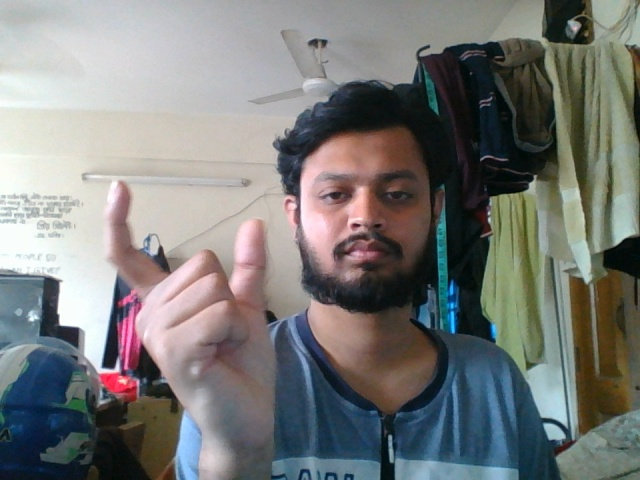chandrobindu: (97, 176, 297, 478)
